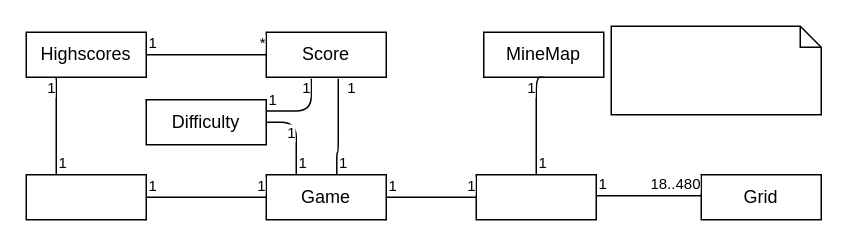
This 848x246 diagram has some shape labels left out. The centre of each missing label's shape, as x and y in pixels:
"Board" goes at [535,196].
"MineMap is used during board generation to abstract away creation logic" goes at [715,70].
"UI" goes at [85,196].
